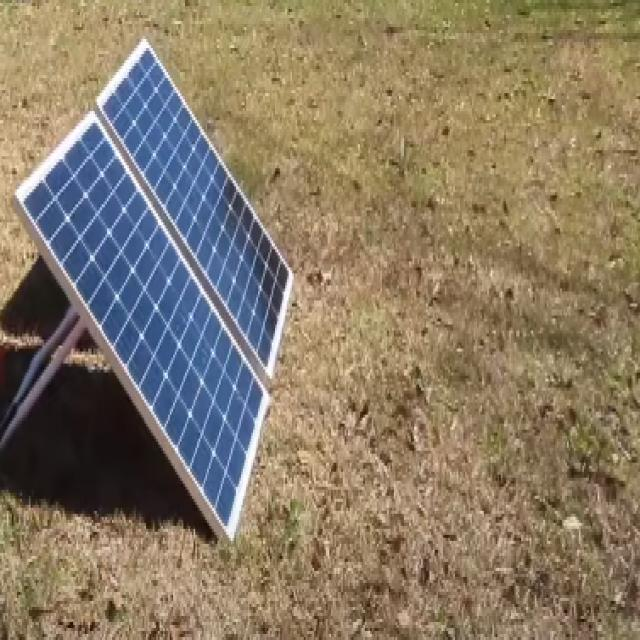Normal Solar Panel: (15, 39, 294, 536)
